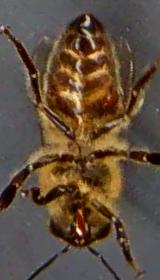varroa_mite: (92, 78, 126, 117)
